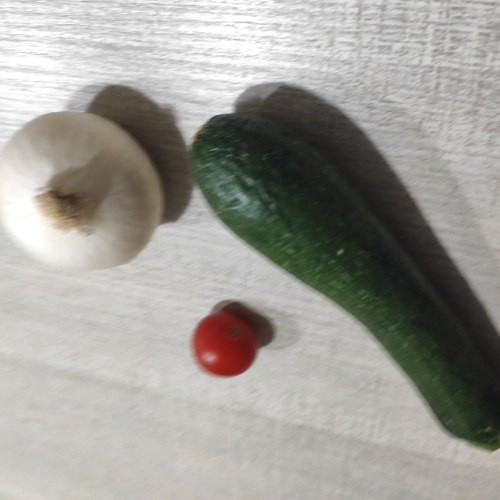cipolla: (11, 110, 171, 275)
pomodoro: (191, 309, 258, 376)
zucchine: (246, 123, 487, 428)
